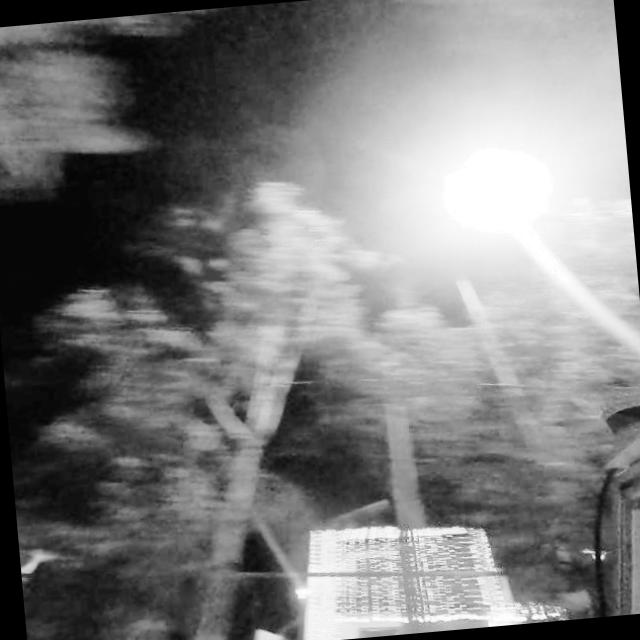Light: (434, 148, 565, 240)
